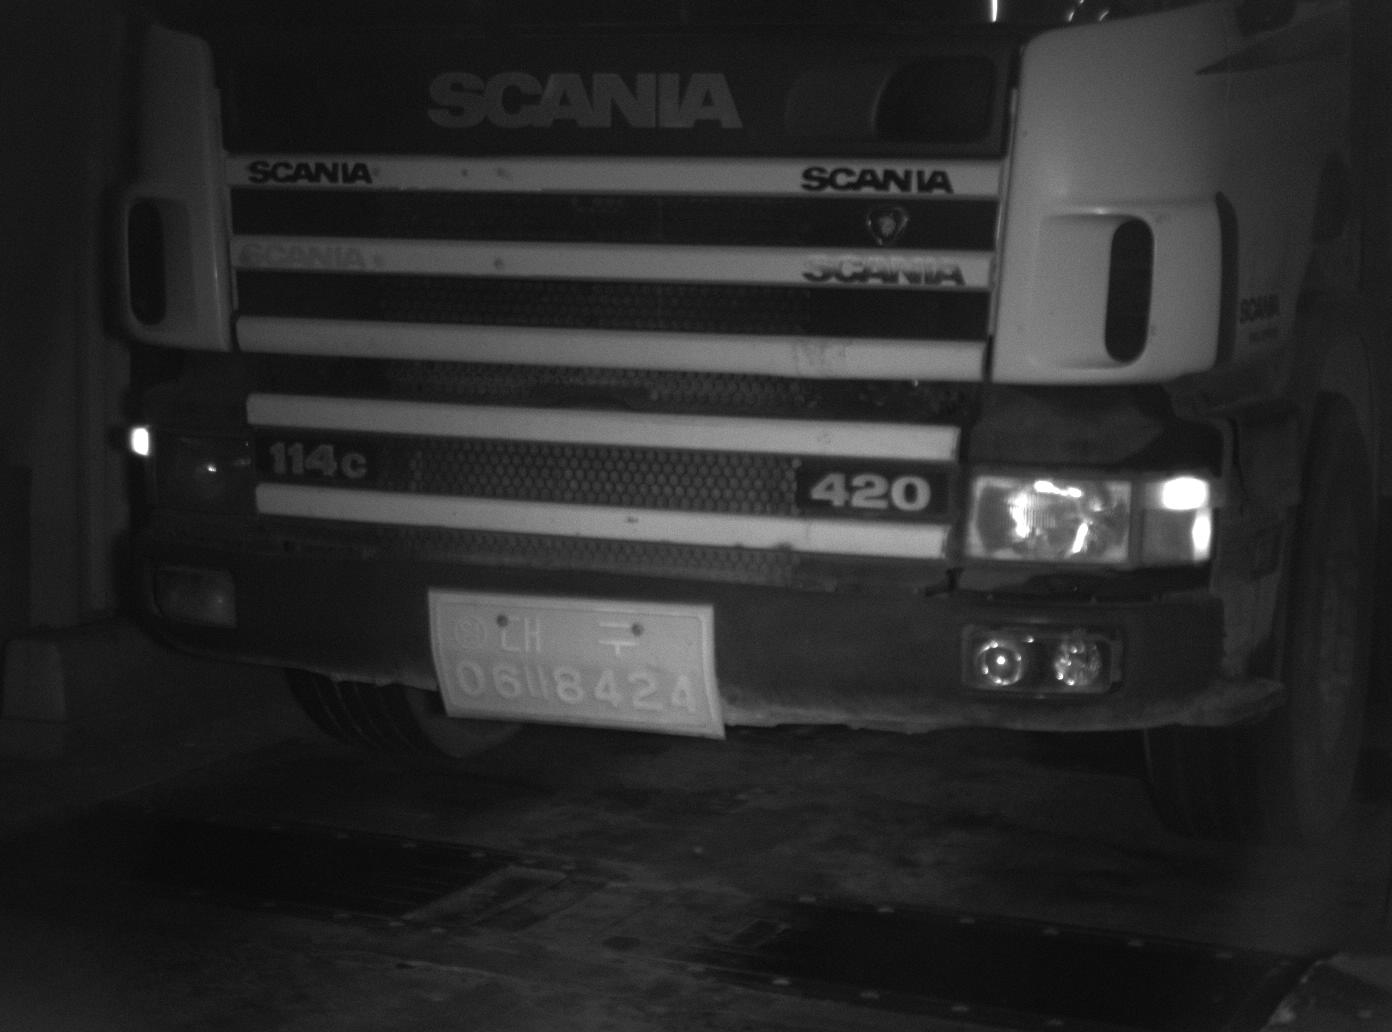car: (96, 1, 1392, 852)
plate: (426, 591, 722, 740)
